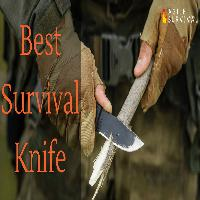knife: (65, 40, 155, 156)
